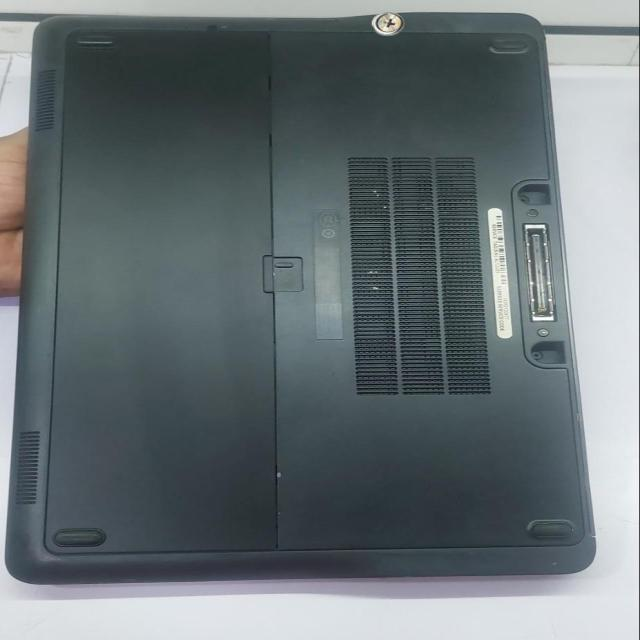lock: (371, 12, 404, 36)
